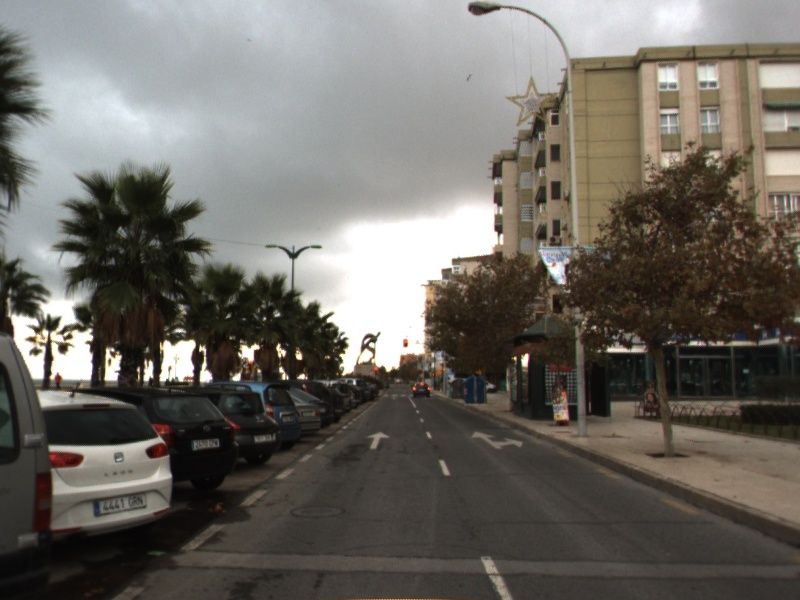STRAIGHT: (364, 430, 392, 450)
STRAIGHT_RIGHT: (470, 429, 525, 451)
